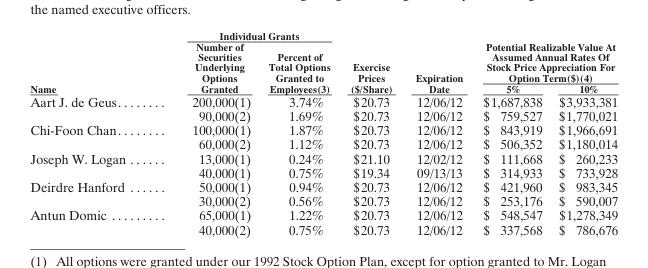table: (29, 28, 617, 236)
table column: (29, 28, 158, 236), (259, 28, 339, 236), (472, 28, 549, 236), (158, 28, 233, 236), (403, 28, 472, 236), (549, 28, 617, 236), (339, 28, 403, 236), (233, 28, 259, 236)
table column header: (29, 28, 617, 122)
table row: (29, 40, 617, 82), (29, 93, 617, 122), (29, 150, 617, 165), (29, 221, 617, 236), (29, 122, 617, 136), (29, 136, 617, 150), (29, 165, 617, 179), (29, 179, 617, 193), (29, 193, 617, 207), (29, 207, 617, 221), (29, 28, 617, 40), (29, 82, 617, 93)
table spanning cell: (29, 28, 158, 122), (472, 28, 617, 82), (259, 40, 339, 122), (403, 28, 472, 122), (339, 28, 403, 122), (158, 40, 259, 93), (472, 82, 549, 122), (549, 82, 617, 122), (158, 28, 339, 40)
